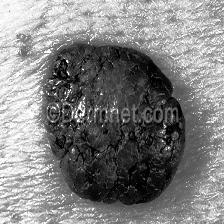Benign Marking or Mole: (44, 43, 188, 205)
